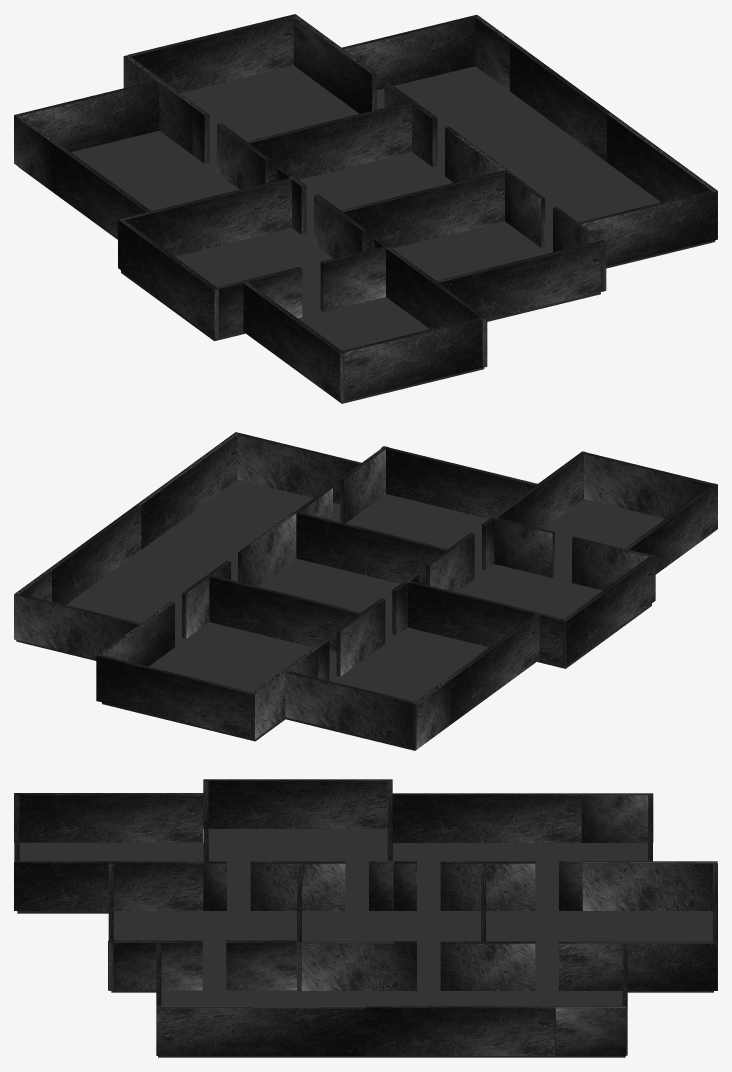
Rendered from wallOld.fbx.
The picture shows the model from 3 angles, top to bottom: view 1: azimuth 30°, elevation 25°; view 2: azimuth 150°, elevation 25°; view 3: azimuth 270°, elevation 25°; orthographic projection. The views are drawn at different scales.
Visible parts, largest first — view 1: Куб.023, Куб.018, Куб.015, Куб.001, Куб.004, Куб.019, Куб.012, Куб.011, Куб.007, Куб.002, Куб.017, Куб.009 (+8 smaller); view 2: Куб.023, Куб.018, Куб.012, Куб.015, Куб.004, Куб.009, Куб.019, Куб.001, Куб.011, Куб.010, Куб.008, Куб.002 (+8 smaller); view 3: Куб.023, Куб.018, Куб.015, Куб.008, Куб.009, Куб.005, Куб.006, Куб, Куб.016, Куб.003, Куб.011, Куб.019 (+4 smaller).
Part boxes in pixels (<box>): Куб.023: <box>19,65,715,403</box>; Куб.018: <box>474,15,717,239</box>; Куб.015: <box>292,14,507,182</box>; Куб.001: <box>122,177,291,256</box>; Куб.004: <box>247,101,415,182</box>; Куб.019: <box>341,169,510,250</box>; Куб.012: <box>128,14,296,92</box>; Куб.011: <box>437,240,606,319</box>; Куб.007: <box>342,317,482,400</box>; Куб.002: <box>216,246,385,337</box>; Куб.017: <box>578,190,717,266</box>; Куб.009: <box>14,114,151,239</box>; Куб.023: <box>16,479,703,750</box>; Куб.018: <box>14,432,238,604</box>; Куб.012: <box>96,654,252,738</box>; Куб.015: <box>97,512,296,666</box>; Куб.004: <box>206,574,361,652</box>; Куб.009: <box>412,614,539,749</box>; Куб.019: <box>293,511,448,584</box>; Куб.001: <box>408,581,563,665</box>; Куб.011: <box>381,446,537,518</box>; Куб.010: <box>285,671,414,748</box>; Куб.008: <box>251,582,407,739</box>; Куб.002: <box>494,517,650,590</box>; Куб.023: <box>17,829,713,1057</box>; Куб.018: <box>156,1006,626,1055</box>; Куб.015: <box>301,941,717,990</box>; Куб.008: <box>393,861,717,910</box>; Куб.009: <box>392,793,653,842</box>; Куб.005: <box>14,793,203,842</box>; Куб.006: <box>14,861,203,910</box>; Куб: <box>203,779,392,828</box>; Куб.016: <box>108,940,297,990</box>; Куб.003: <box>203,861,392,910</box>; Куб.011: <box>108,863,113,990</box>; Куб.019: <box>297,863,301,990</box>.
Size of what is drawn, in the model's own units: 36066 by 3809 by 46862.
